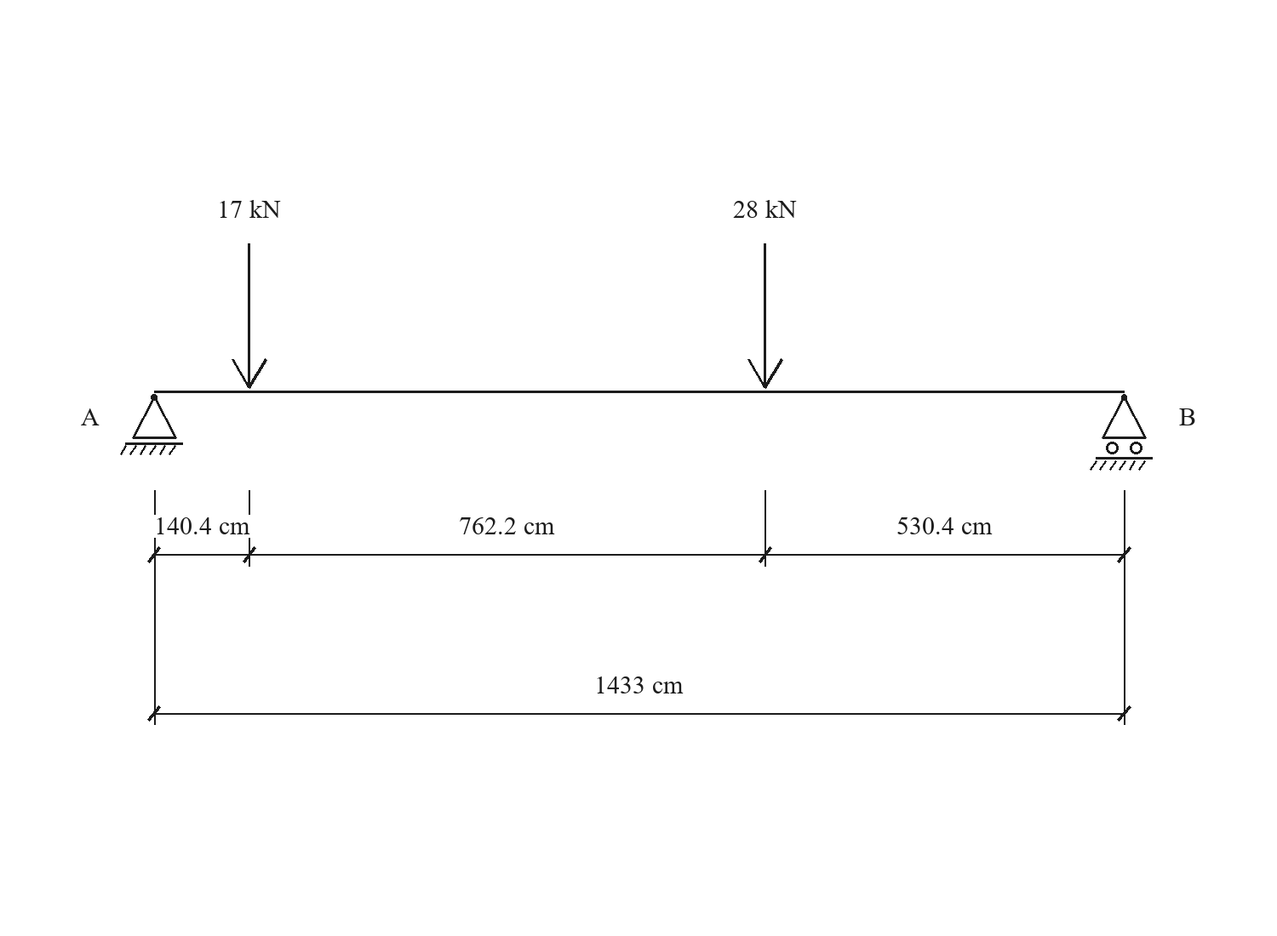pin_support: (120, 394, 183, 455)
point_load: (747, 243, 783, 389), (232, 243, 267, 389)
roller_support: (1090, 394, 1153, 471)
